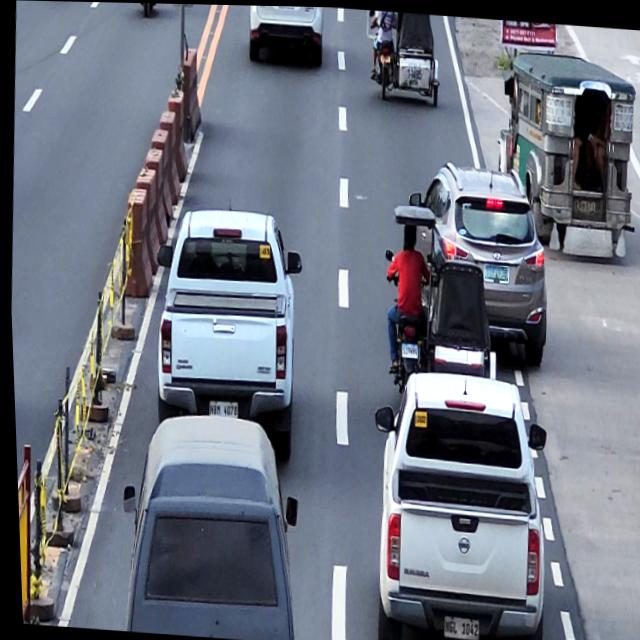Car: (357, 366, 554, 640), (111, 409, 303, 640), (142, 202, 309, 462), (397, 155, 555, 369), (246, 4, 327, 71)
Jeep: (492, 44, 640, 266)
License-Plate: (438, 613, 476, 639), (205, 399, 236, 418), (482, 262, 507, 280), (573, 196, 595, 213), (399, 342, 416, 356), (379, 53, 391, 62)
Tricycle: (374, 202, 504, 395), (366, 8, 444, 109)
